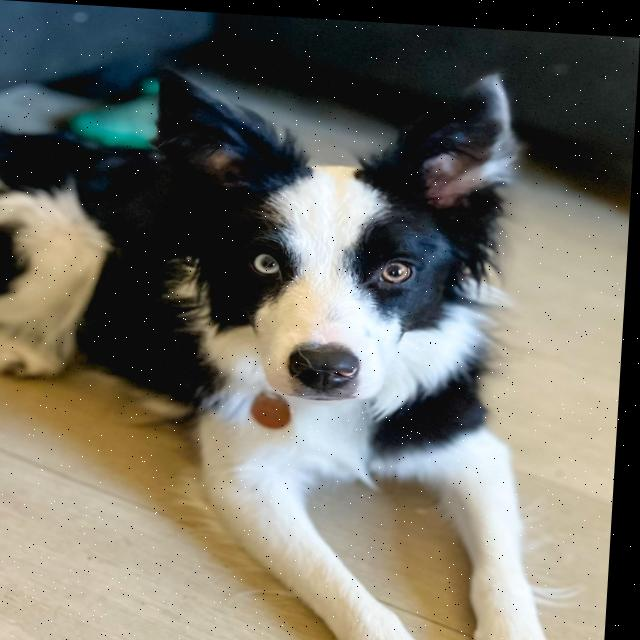ALASKAN_MALAMUTE: (0, 29, 610, 640)
